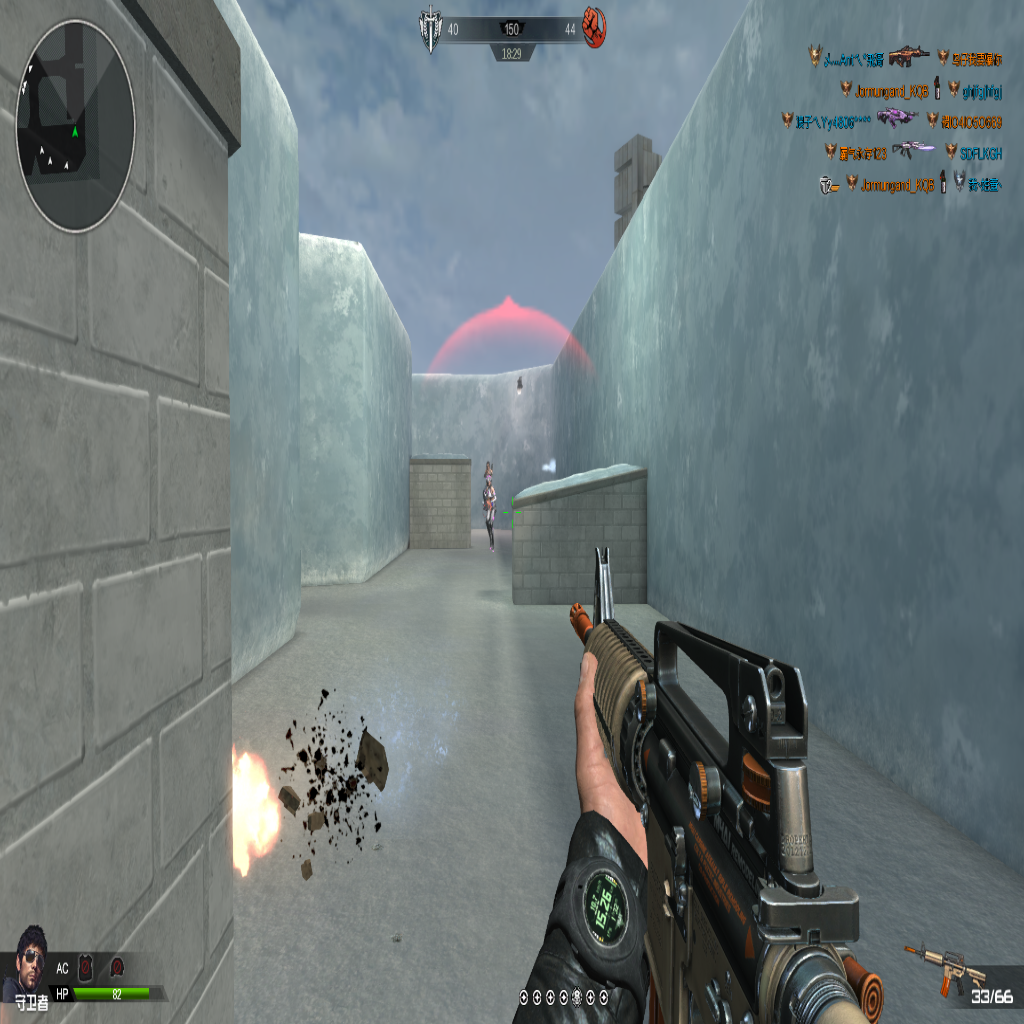tt: (483, 470, 497, 542)
